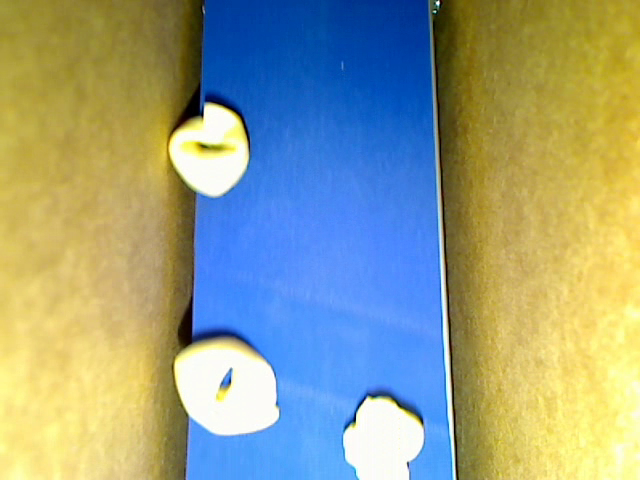tortellini: (174, 335, 280, 437), (164, 101, 250, 198)
